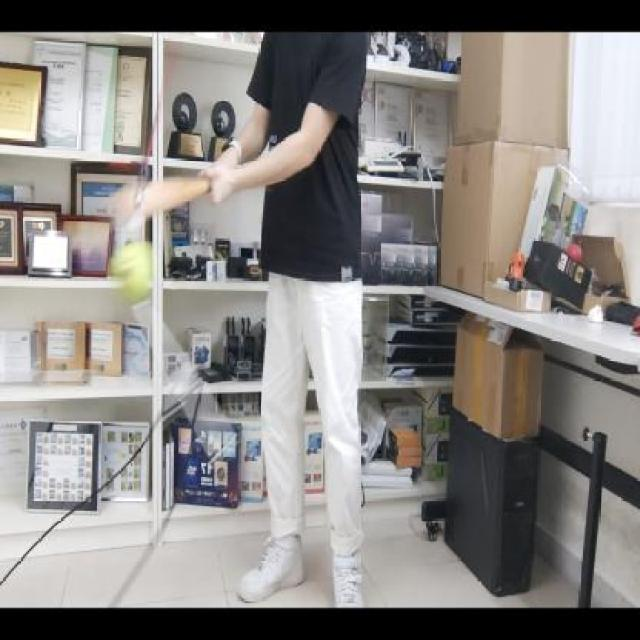baseball: (112, 239, 160, 301)
